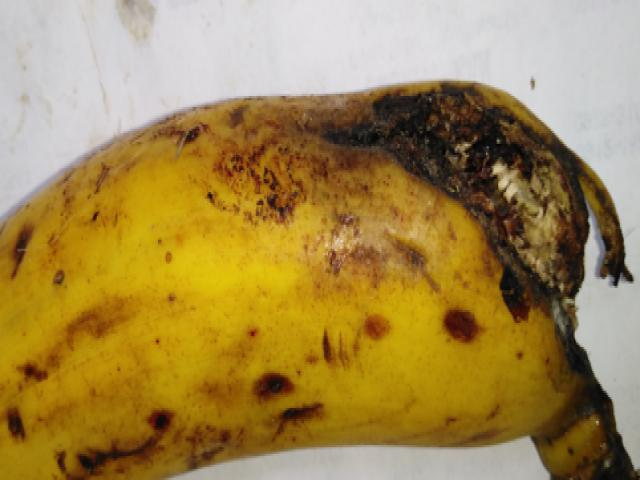ripe: (0, 81, 580, 479)
rotten: (279, 48, 638, 403)
